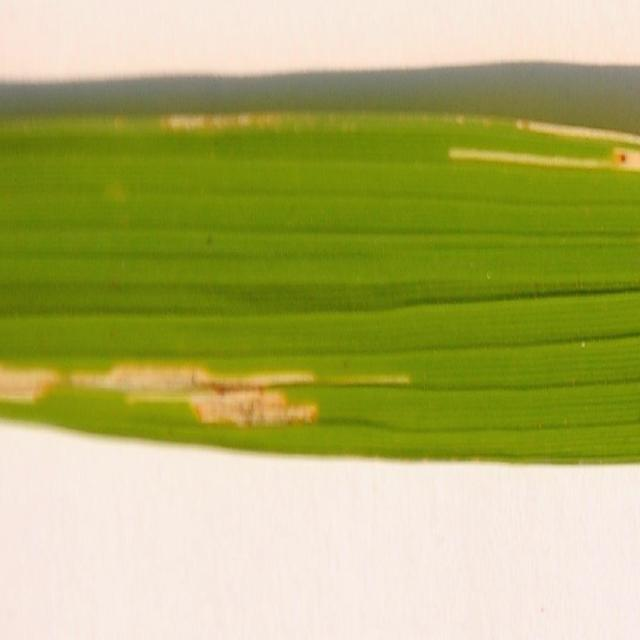Bacterial_Leaf_Blight: (0, 327, 447, 464), (434, 31, 640, 210)
